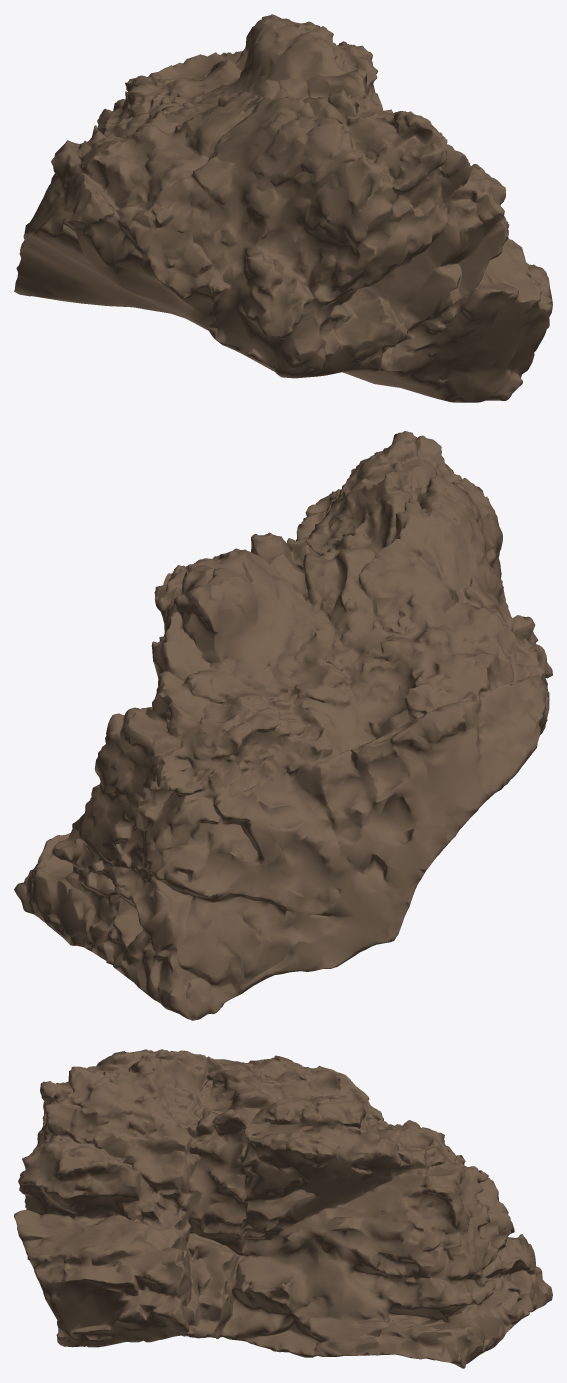
The model's file is boulder_01-lod1.glb.
The picture shows the model from 3 angles, top to bottom: view 1: azimuth 30°, elevation 25°; view 2: azimuth 150°, elevation 25°; view 3: azimuth 270°, elevation 25°; orthographic projection. The views are drawn at different scales.
Visible parts, largest first — view 1: boulder_01; view 2: boulder_01; view 3: boulder_01.
Boxes of the visible parts, x1,y1,x2,y2 form: boulder_01: (14, 14, 552, 402); boulder_01: (14, 431, 552, 1020); boulder_01: (14, 1049, 552, 1368).
Bounding box in the file's own units: 1.27 × 1 × 1.83.
